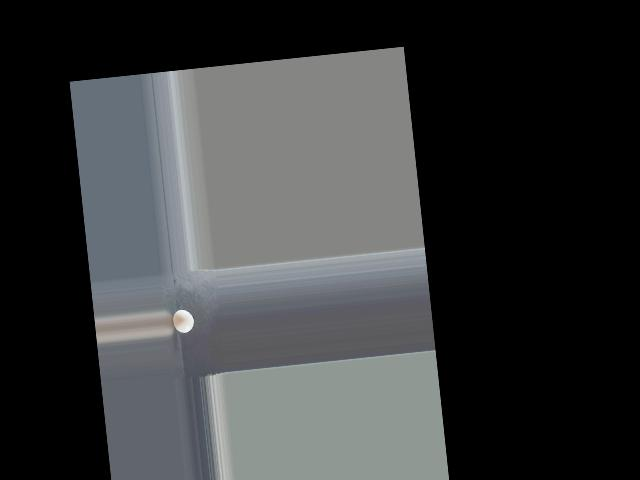egg: (171, 308, 195, 333)
